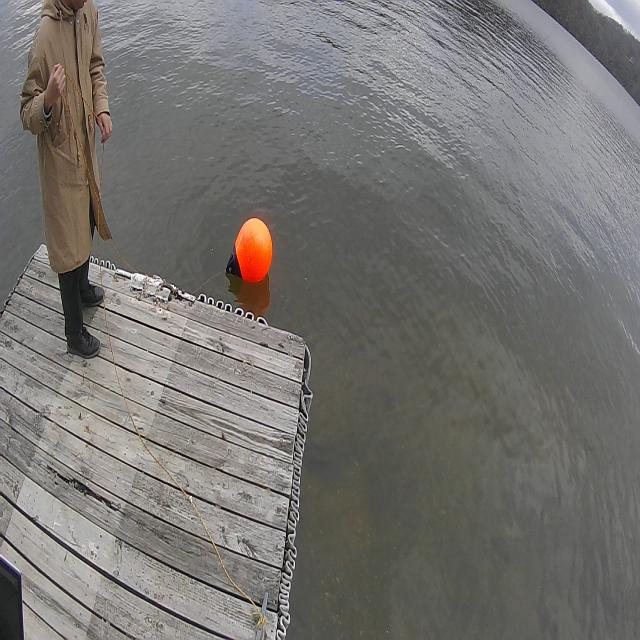Buoy: (224, 214, 276, 289)
